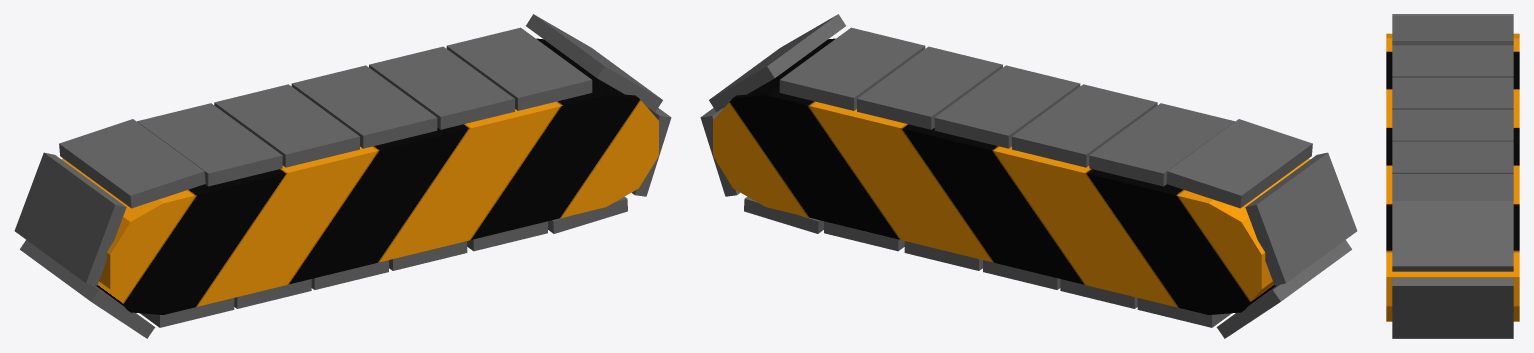
File: beltconveyor.fbx
The picture shows the model from 3 angles, left to right: view 1: azimuth 30°, elevation 25°; view 2: azimuth 150°, elevation 25°; view 3: azimuth 270°, elevation 25°; orthographic projection. The views are drawn at different scales.
Visible parts, largest first — view 1: 円.001, 立方体.009, 立方体.008, 立方体.005, 立方体.002, 立方体.004, 立方体.006, 立方体.007, 立方体.001, 立方体.010, 立方体.011, 立方体.003 (+5 smaller); view 2: 円.001, 立方体.009, 立方体.008, 立方体.005, 立方体.002, 立方体.004, 立方体.006, 立方体.007, 立方体.001, 立方体.010, 立方体.011, 立方体.003 (+5 smaller); view 3: 立方体.001, 立方体, 円.001, 立方体.004, 立方体.005, 立方体.006, 立方体.007, 立方体.008, 立方体.002, 立方体.009, 立方体.003.
Boxes of the visible parts, x1=… form: 円.001: x1=61, y1=38, x2=658, y2=314; 立方体.009: x1=14, y1=152, x2=126, y2=285; 立方体.008: x1=59, y1=119, x2=205, y2=208; 立方体.005: x1=291, y1=65, x2=437, y2=148; 立方体.002: x1=446, y1=27, x2=592, y2=110; 立方体.004: x1=369, y1=46, x2=514, y2=129; 立方体.006: x1=214, y1=84, x2=359, y2=167; 立方体.007: x1=137, y1=103, x2=282, y2=186; 立方体.001: x1=526, y1=14, x2=662, y2=111; 立方体.010: x1=20, y1=240, x2=155, y2=338; 立方体.011: x1=140, y1=298, x2=234, y2=327; 立方体.003: x1=548, y1=196, x2=627, y2=233; 円.001: x1=713, y1=38, x2=1310, y2=314; 立方体.009: x1=1245, y1=152, x2=1357, y2=285; 立方体.008: x1=1166, y1=119, x2=1312, y2=208; 立方体.005: x1=934, y1=65, x2=1080, y2=148; 立方体.002: x1=779, y1=27, x2=925, y2=110; 立方体.004: x1=857, y1=46, x2=1002, y2=129; 立方体.006: x1=1012, y1=84, x2=1157, y2=167; 立方体.007: x1=1089, y1=103, x2=1234, y2=186; 立方体.001: x1=709, y1=14, x2=845, y2=111; 立方体.010: x1=1216, y1=240, x2=1351, y2=338; 立方体.011: x1=1137, y1=298, x2=1231, y2=327; 立方体.003: x1=744, y1=196, x2=823, y2=233; 立方体.001: x1=1392, y1=201, x2=1513, y2=271; 立方体: x1=1392, y1=277, x2=1513, y2=337; 円.001: x1=1386, y1=33, x2=1519, y2=321; 立方体.004: x1=1392, y1=141, x2=1513, y2=173; 立方体.005: x1=1392, y1=109, x2=1513, y2=141; 立方体.006: x1=1392, y1=77, x2=1513, y2=109; 立方体.007: x1=1392, y1=45, x2=1513, y2=77; 立方体.008: x1=1392, y1=16, x2=1513, y2=45; 立方体.002: x1=1392, y1=174, x2=1513, y2=200; 立方体.009: x1=1392, y1=14, x2=1513, y2=15; 立方体.003: x1=1392, y1=338, x2=1513, y2=338.
Size of the model in its own units: 946 by 249 by 219.
17 materials, 17 textured.
